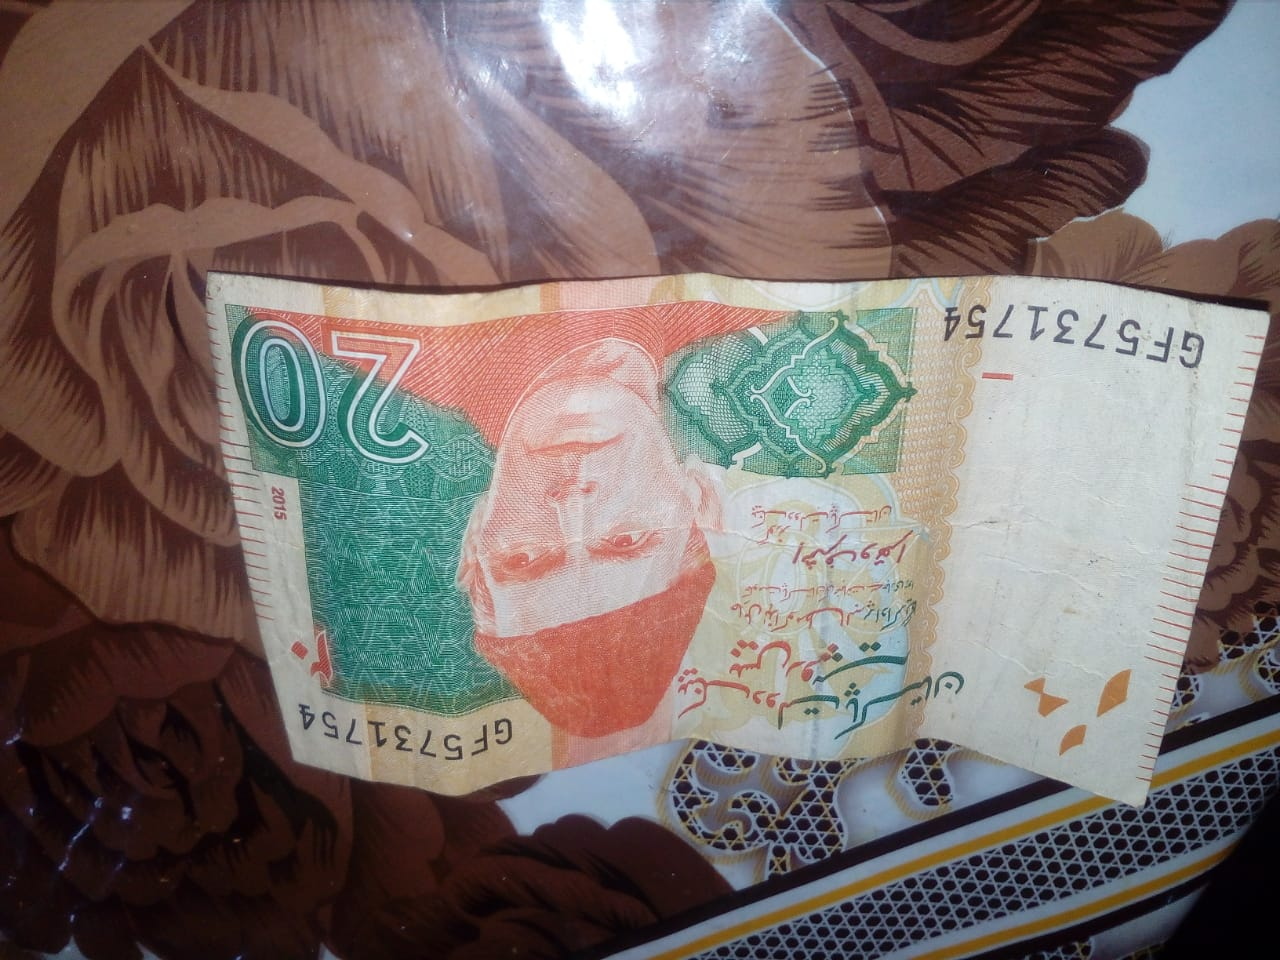20 rupee: (189, 255, 1249, 809)
